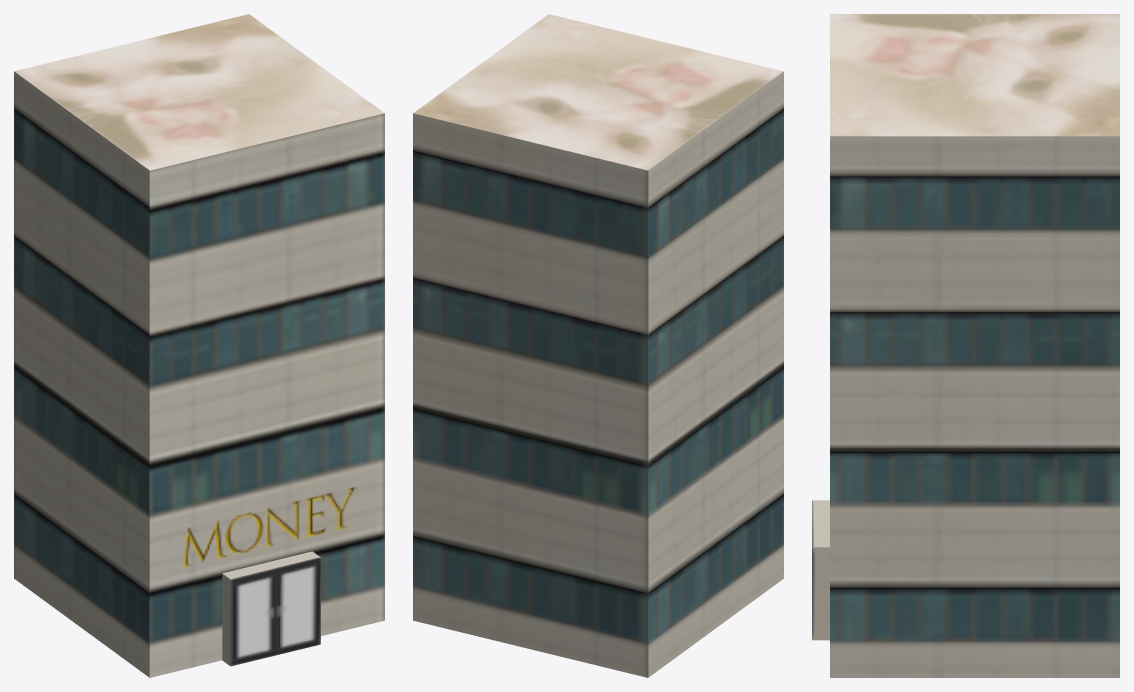
Rendered from Building4.fbx.
The picture shows the model from 3 angles, left to right: view 1: azimuth 30°, elevation 25°; view 2: azimuth 150°, elevation 25°; view 3: azimuth 270°, elevation 25°; orthographic projection. The views are drawn at different scales.
Visible parts, largest first — view 1: Cube; view 2: Cube; view 3: Cube.
Boxes of the visible parts, bbox=[...] form: Cube: bbox=[14, 14, 384, 677]; Cube: bbox=[413, 14, 783, 677]; Cube: bbox=[812, 14, 1119, 677].
Size of the model in its own units: 200 by 412 by 212.
Materials: 1 (1 with a texture image).
